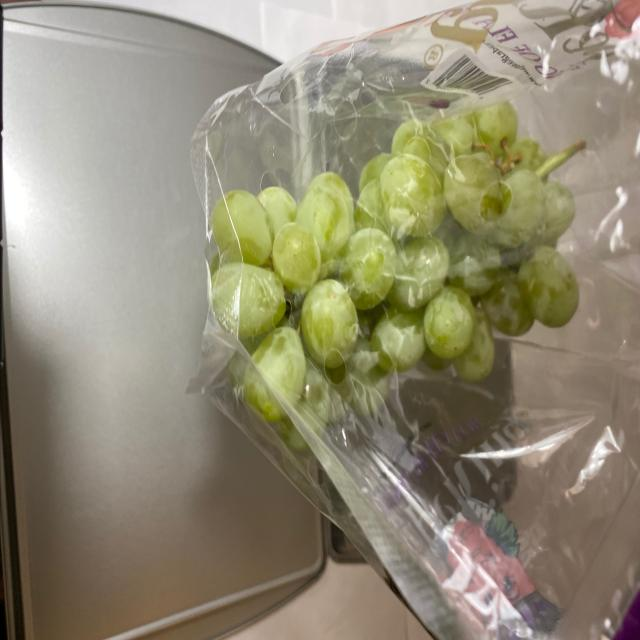grapes: (227, 87, 592, 451)
